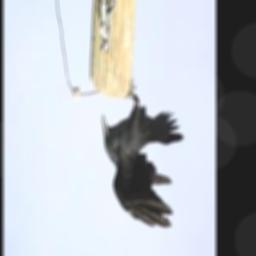Crow: (101, 81, 186, 232)
